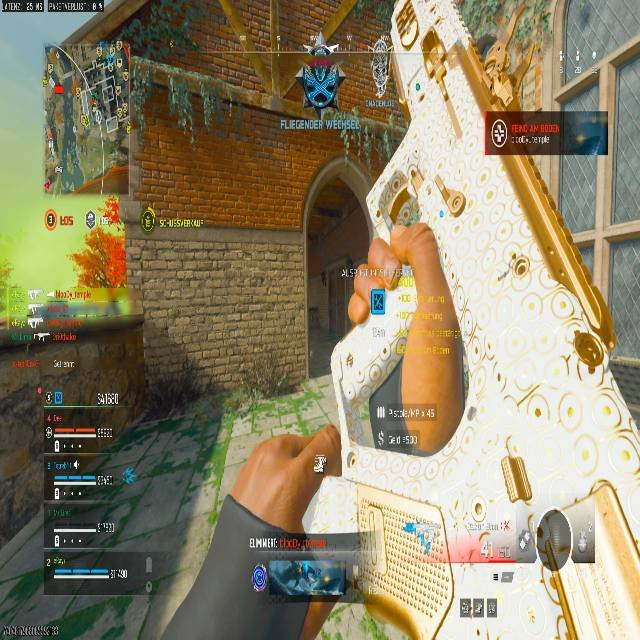player: (296, 54, 342, 123), (103, 195, 119, 223)
